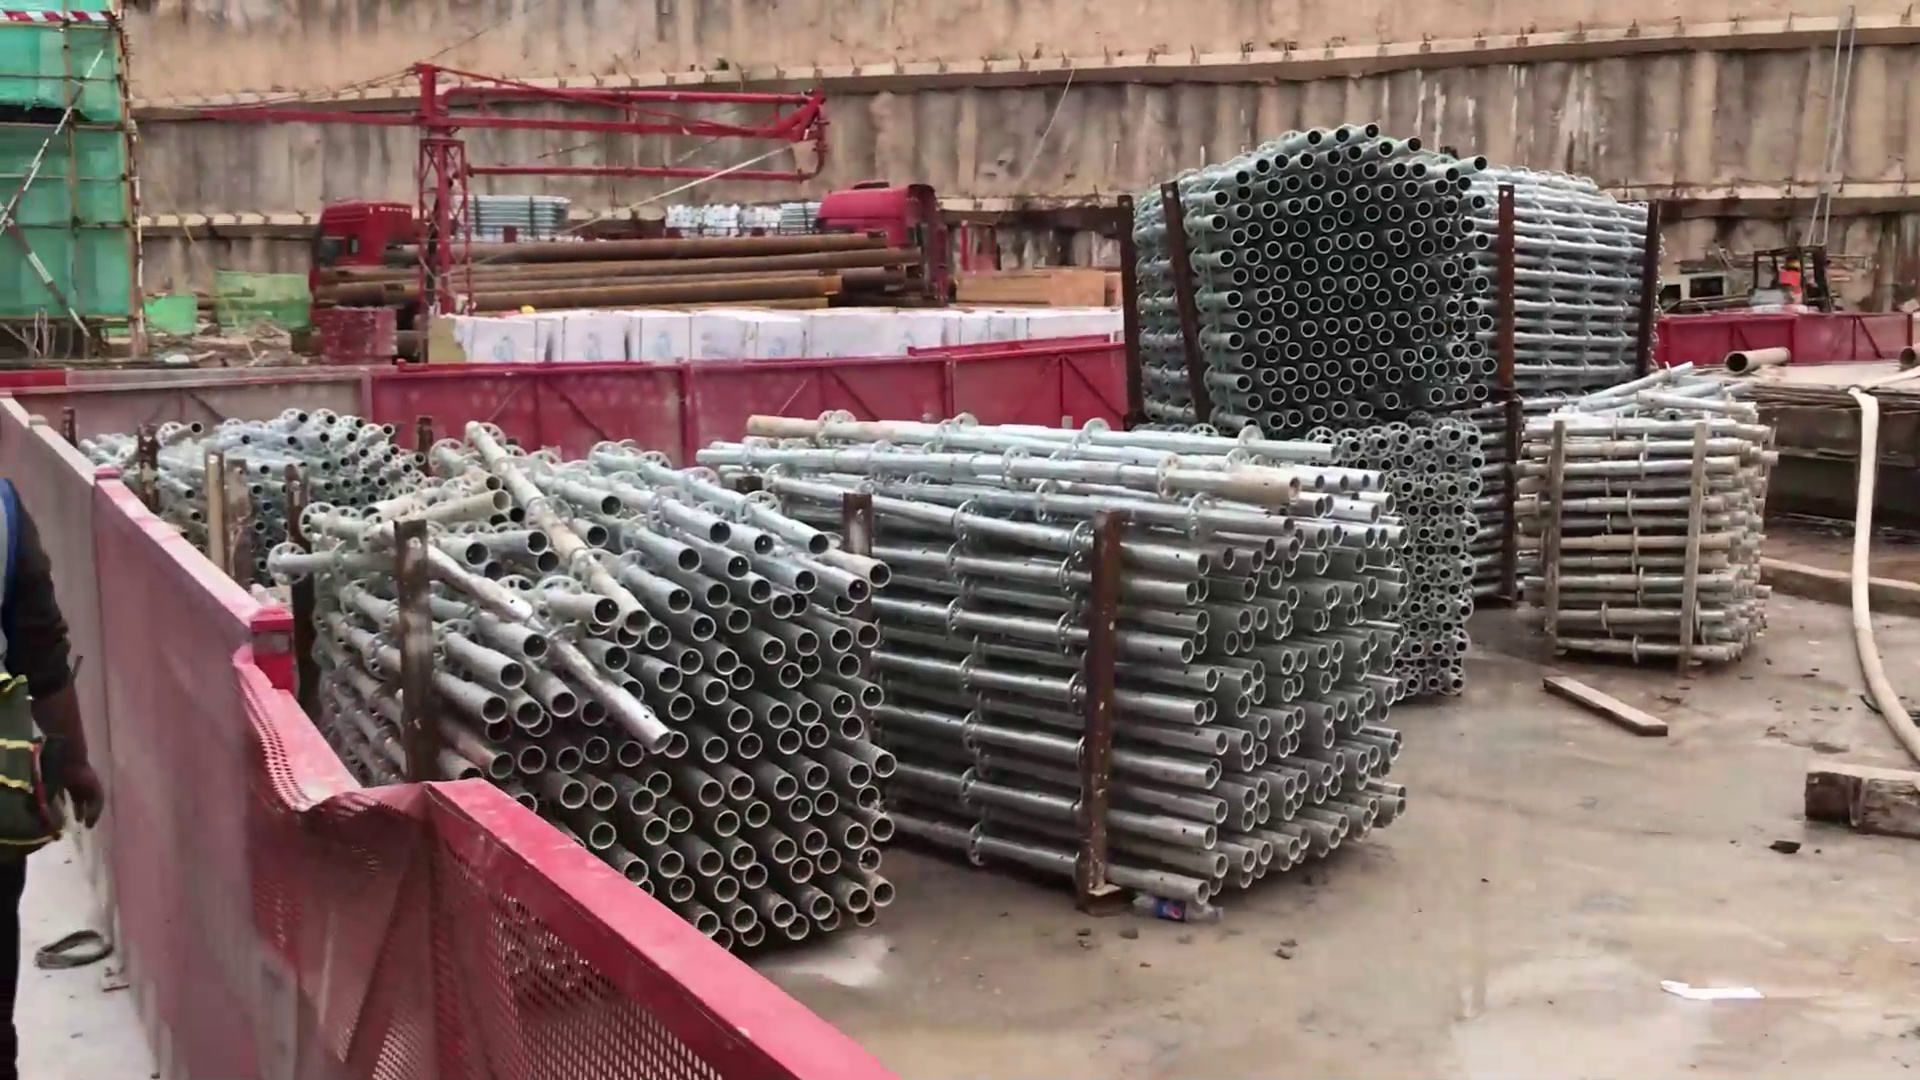fence: (88, 513, 345, 1080), (404, 360, 887, 419)
scaffold: (858, 404, 1412, 915), (1130, 119, 1680, 434), (625, 448, 874, 945), (1514, 378, 1788, 702), (149, 393, 401, 574)
wood: (959, 252, 1131, 323)
